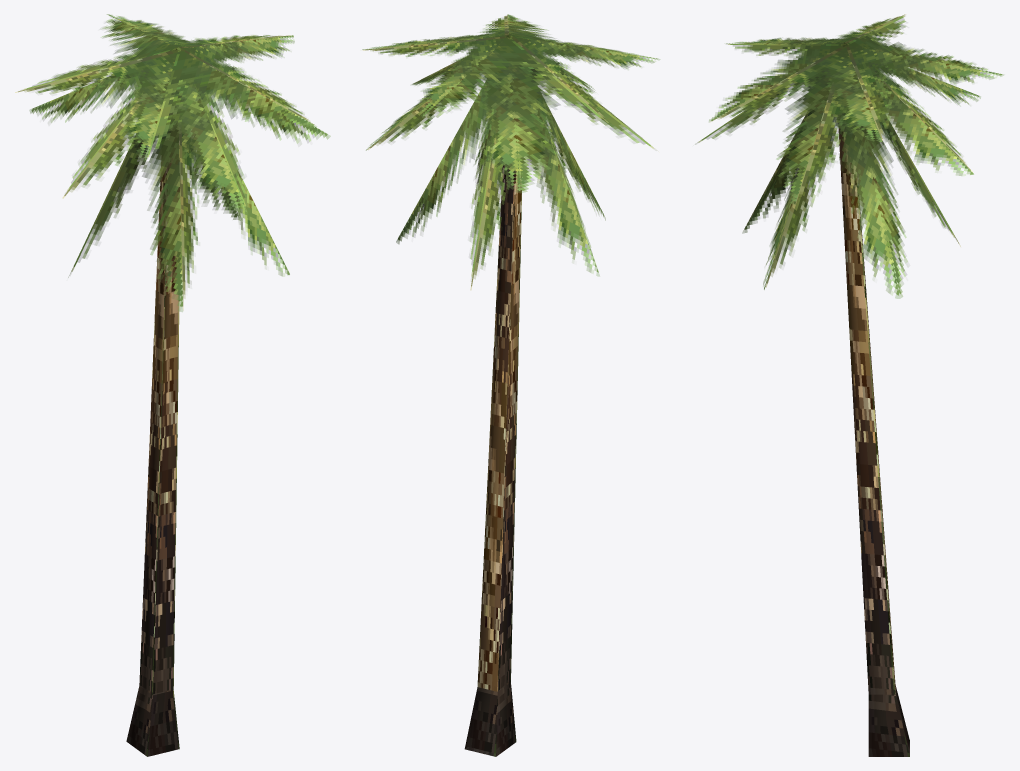
Rendered from Environment - Vegetation - XPALM 01 - PTXPALM01.glb.
3 views of the same model, side by side, from view 1: azimuth 30°, elevation 25°; view 2: azimuth 150°, elevation 25°; view 3: azimuth 270°, elevation 25° (orthographic). The views are drawn at different scales.
Visible parts, largest first — view 1: PTXPALM01; view 2: PTXPALM01; view 3: PTXPALM01.
Part boxes in pixels (x1,y1,x2,y2): PTXPALM01: [15, 14, 330, 756]; PTXPALM01: [362, 14, 660, 756]; PTXPALM01: [695, 14, 1003, 756].
Size of the model in its own units: 25.74 by 64.87 by 26.18.
Materials: 1 (1 with a texture image).
